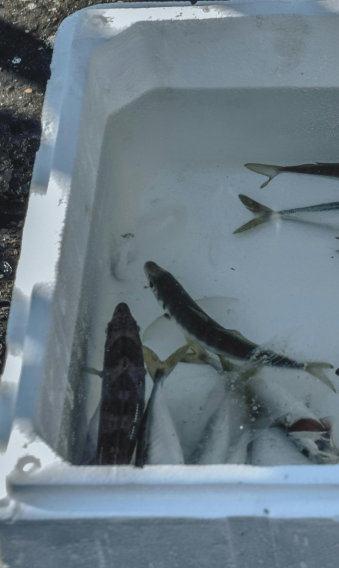fishLarge: (141, 258, 337, 397), (79, 289, 145, 468), (142, 341, 192, 465), (232, 193, 339, 236), (244, 160, 338, 189)
